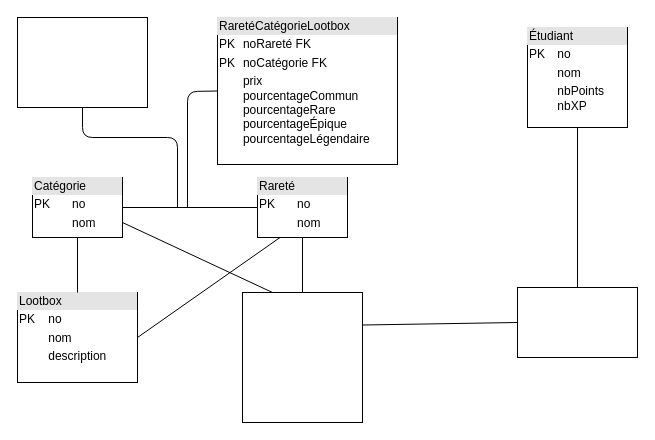
The diagram is 655 pixels wide and 440 high, and some of its shapes have lost their labels. Each missing label, with the centre of its shape:
Asset PK no nom catégorie FK rareté FK description lienImage: pixel 302 357
AssetÉtudiant PK noAsset FK PK noÉtudiant FK: pixel 577 322
RaretéCatégorieAsset PK noRareté FK PK noCatégorie FK prix: pixel 82 62
